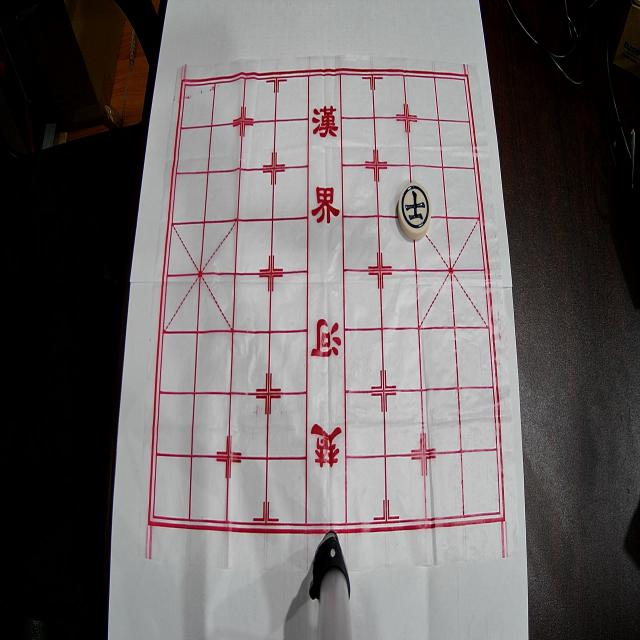black-guard: (398, 182, 432, 240)
